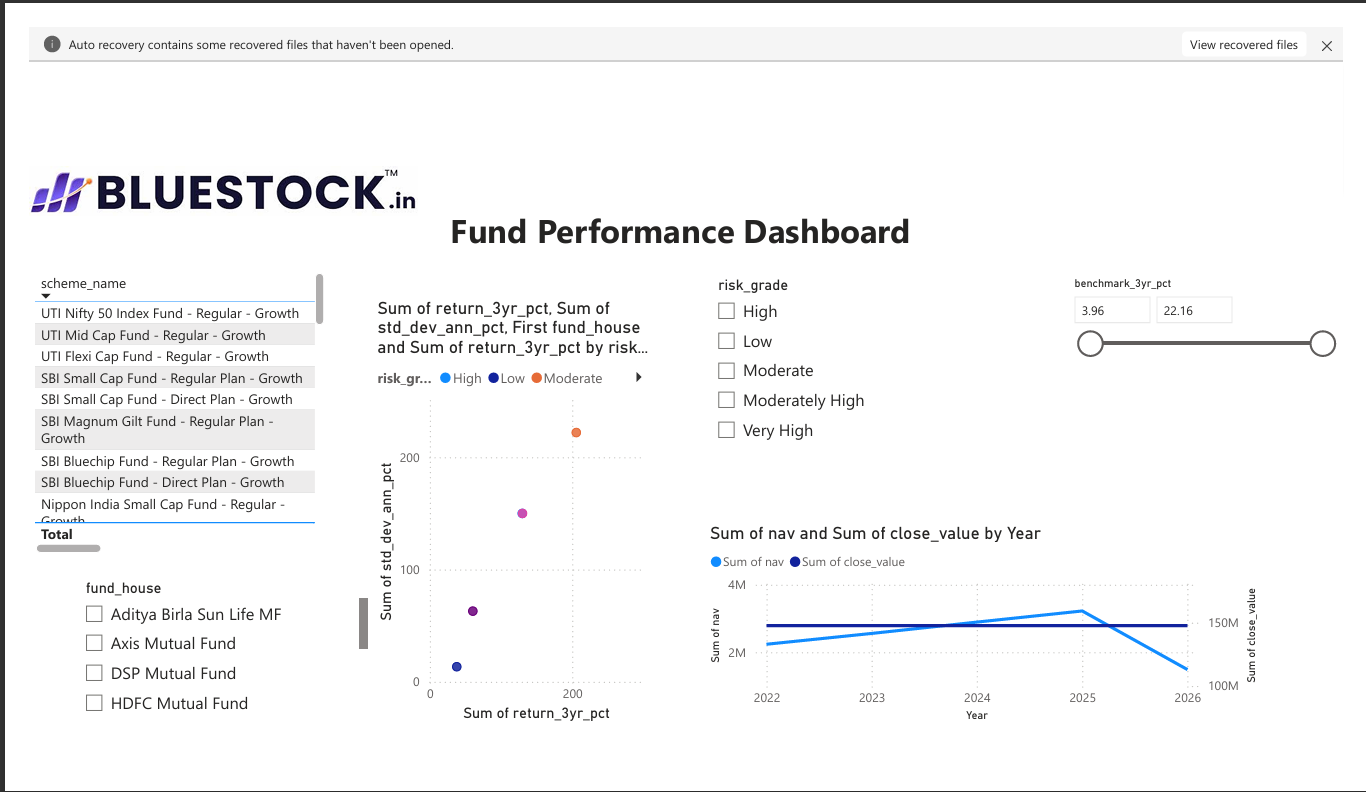

Layout of this report page (visuals, bound fields, positions):
{"tool":"powerbi","page":{"name":"Fund Performance","canvas":[1280,720],"ordinal":1},"visuals":[{"type":"scatterChart","fields":{"X":["Sum(scheme_performance_clean.return_3yr_pct)"],"Y":["Sum(scheme_performance_clean.std_dev_ann_pct)"],"Series":["scheme_performance_clean.risk_grade"]},"box":[333.9,263.3,279.3,417.4],"z":0},{"type":"tableEx","fields":{"Values":["scheme_performance_clean.scheme_name","Sum(scheme_performance_clean.return_5yr_pct)","Sum(scheme_performance_clean.return_3yr_pct)","Sum(scheme_performance_clean.sortino_ratio)","Sum(scheme_performance_clean.alpha)","Sum(scheme_performance_clean.max_drawdown_pct)","Sum(scheme_performance_clean.beta)","Sum(scheme_performance_clean.sharpe_ratio)"]},"box":[0,234.4,292.2,282.5],"z":1000},{"type":"slicer","fields":{"Values":["scheme_performance_clean.fund_house"]},"box":[41.7,533,292.2,147.7],"z":2000},{"type":"slicer","fields":{"Values":["scheme_performance_clean.risk_grade"]},"box":[658.2,237.6,279.3,192.6],"z":3000},{"type":"slicer","fields":{"Values":["scheme_performance_clean.benchmark_3yr_pct"]},"box":[1005,237.6,276.1,118.8],"z":4000},{"type":"lineChart","fields":{"Category":["nav_history_clean.date.Variation.Date Hierarchy.Year","nav_history_clean.date.Variation.Date Hierarchy.Quarter","nav_history_clean.date.Variation.Date Hierarchy.Month","nav_history_clean.date.Variation.Date Hierarchy.Day"],"Y":["Sum(nav_history_clean.nav)"],"Y2":["Sum(10_benchmark_indices.close_value)"]},"box":[658.2,481.6,542.6,199.1],"z":5000},{"type":"textbox","box":[404.6,170.2,478.4,64.2],"z":6000},{"type":"image","box":[0,115.6,378.9,86.7],"z":7000}]}

Visuals, with their boxes on the page's 1280x720 design canvas (x1, y1, x2, y2). These are canvas units, not pixel positions in the 1366x792 screenshot, which may show the page scaled, cropped or inside an application window:
scatterChart - Sum(scheme_performance_clean.return_3yr_pct) x Sum(scheme_performance_clean.std_dev_ann_pct): 334,263,613,681
tableEx - scheme_performance_clean.scheme_name x Sum(scheme_performance_clean.return_5yr_pct): 0,234,292,517
slicer - scheme_performance_clean.fund_house: 42,533,334,681
slicer - scheme_performance_clean.risk_grade: 658,238,938,430
slicer - scheme_performance_clean.benchmark_3yr_pct: 1005,238,1281,356
lineChart - nav_history_clean.date.Variation.Date Hierarchy.Year x nav_history_clean.date.Variation.Date Hierarchy.Quarter: 658,482,1201,681
textbox: 405,170,883,234
image: 0,116,379,202
